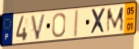4: (15, 14, 29, 43)
I: (72, 8, 80, 39)
M: (106, 6, 125, 35)
O: (51, 11, 67, 39)
V: (30, 12, 47, 41)
X: (90, 7, 107, 36)
